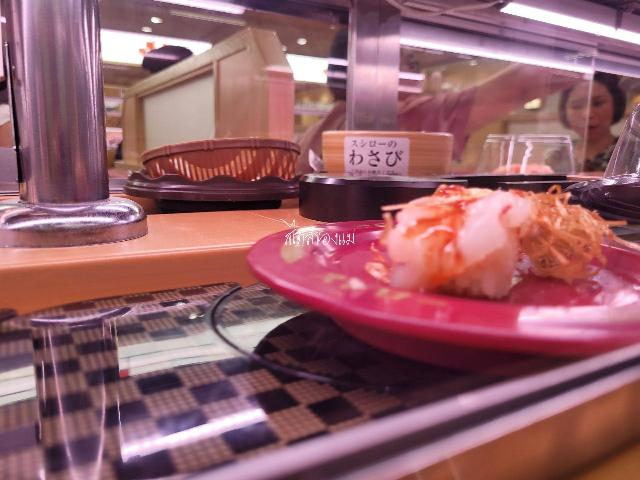janred: (259, 199, 640, 368)
